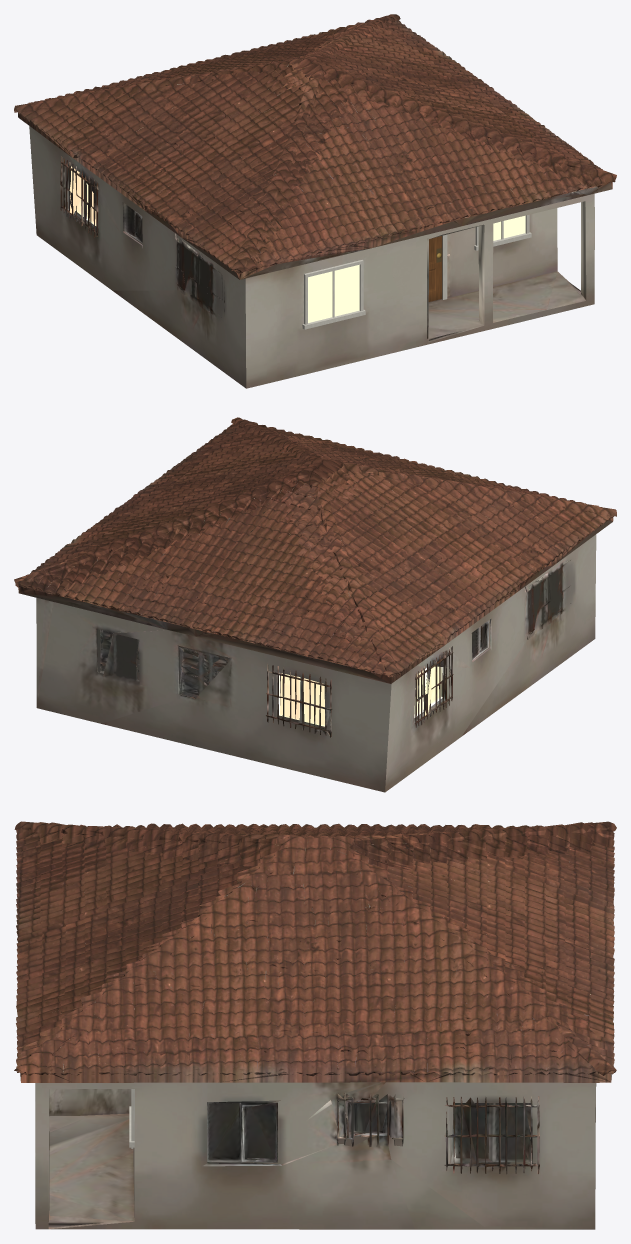
File: house-01-bungalow.glb
3 views of the same model, one above another, from view 1: azimuth 30°, elevation 25°; view 2: azimuth 150°, elevation 25°; view 3: azimuth 270°, elevation 25° (orthographic). The views are drawn at different scales.
Visible parts, largest first — view 1: Mesh_0; view 2: Mesh_0; view 3: Mesh_0.
Part boxes in pixels (<box>): Mesh_0: <box>14,14,616,388</box>; Mesh_0: <box>14,417,616,792</box>; Mesh_0: <box>14,821,616,1229</box>.
Bounding box in the file's own units: 8.09 × 4.2 × 8.22.
6 materials, 6 textured.
